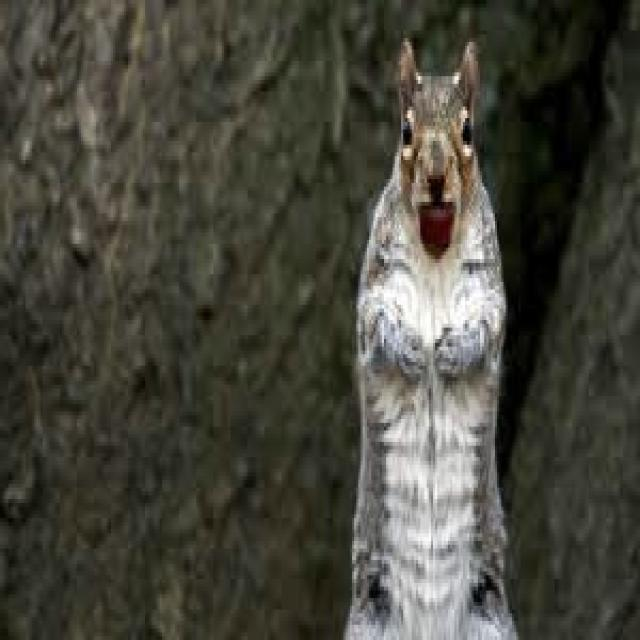squirrel: (346, 38, 518, 636)
